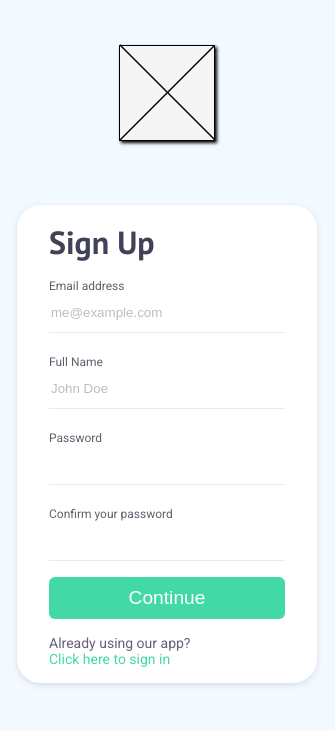
Test: Test Sign Up page › Given user is on sign up page › When user does not enter any data › And clicks continue button › User should see error messages under each of the empty field
Click the button: x=167, y=598 [49, 577, 285, 619]
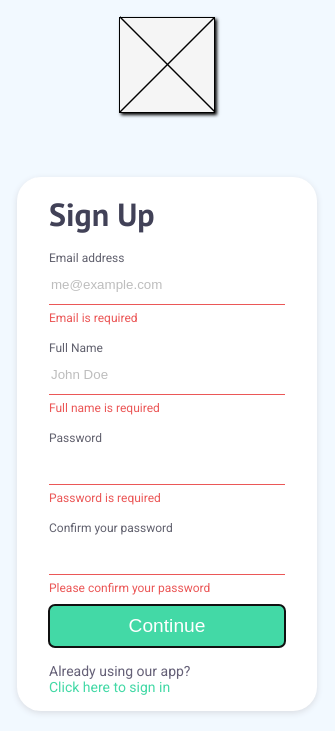
Result: the text "Email is required" is shown at [49, 311, 138, 325]
Result: the text "Full name is required" is shown at [49, 401, 160, 415]
Result: the text "Password is required" is shown at [49, 491, 161, 505]
